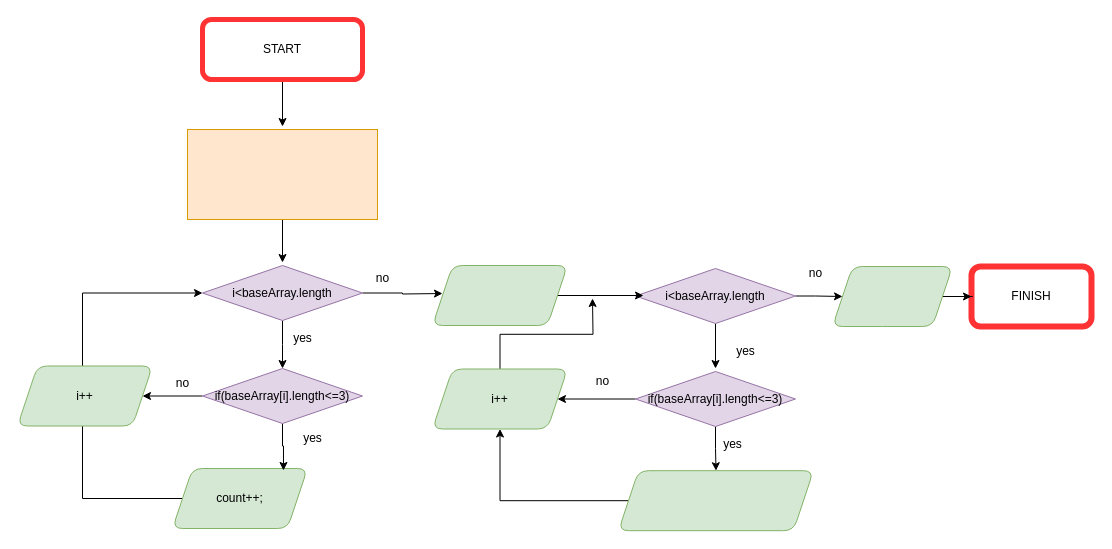
Image size: 1112x549. Some labels were removed from this diagram. The shapes that lost their labels are listed below. From the top down, each one's centre as x and y in pixels, then its label:
At pixel 282 174: "baseArray; count=0; i=0;".
At pixel 500 295: "finalArray[count]; count=0; i=0;".
At pixel 892 296: "print(finalArray)".
At pixel 716 500: "finalArray[count]=baseArray[i]; count++;".
